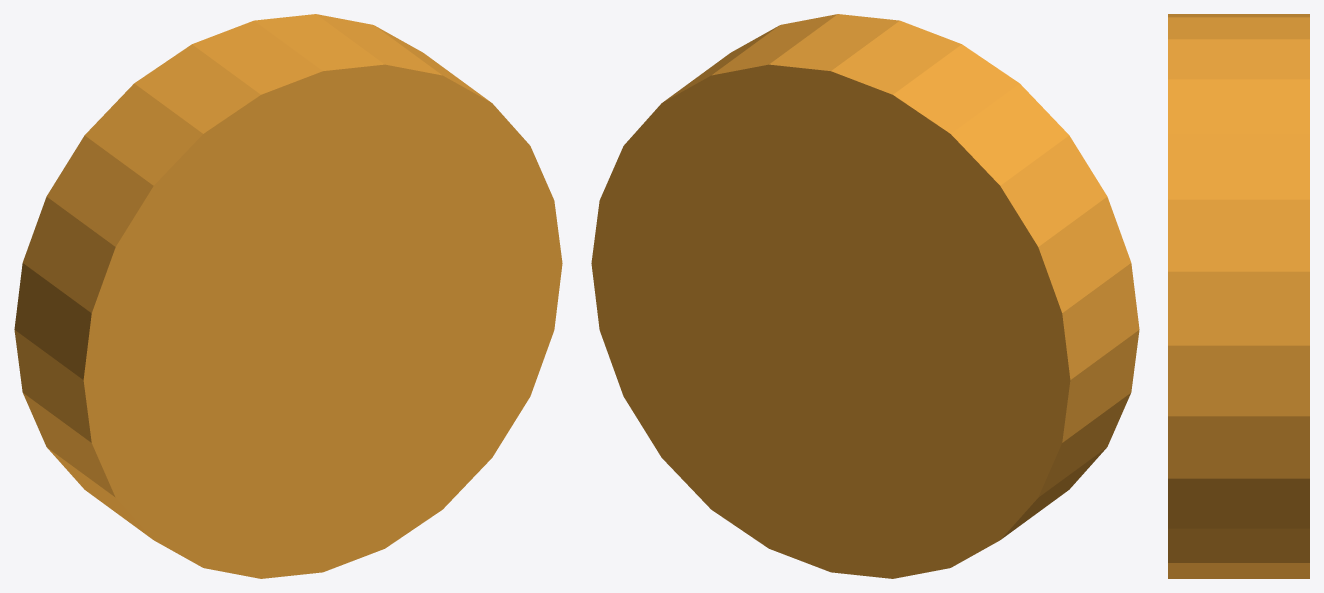
Rendered from SM_Tourelle_Base.obj.
3 views of the same model, side by side, from view 1: azimuth 30°, elevation 25°; view 2: azimuth 150°, elevation 25°; view 3: azimuth 270°, elevation 25° (orthographic). The views are drawn at different scales.
Size of the model in its own units: 2000 by 2000 by 500.
